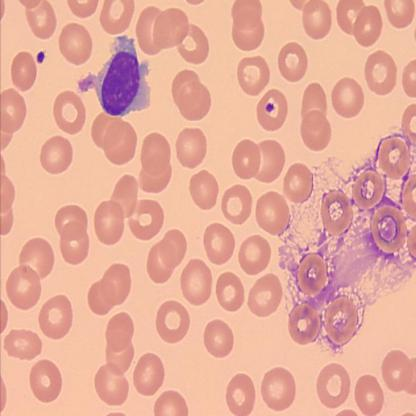Atypical lymphocyte: (280, 127, 416, 351), (78, 35, 155, 121)
